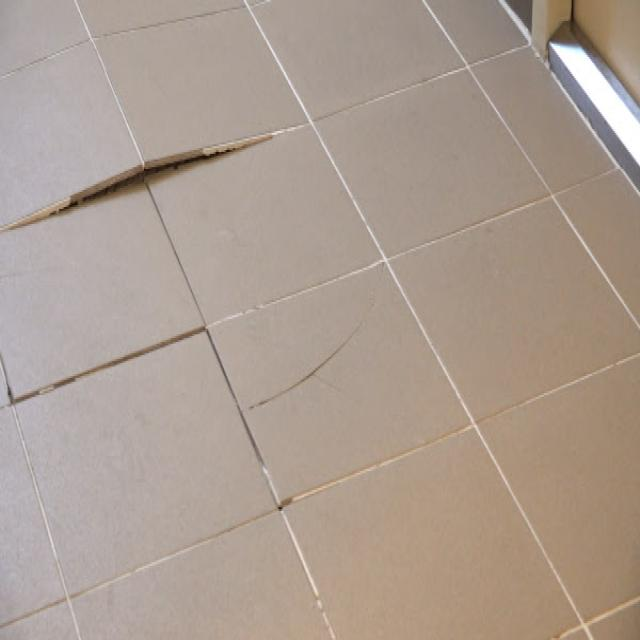tile: (0, 2, 303, 231)
